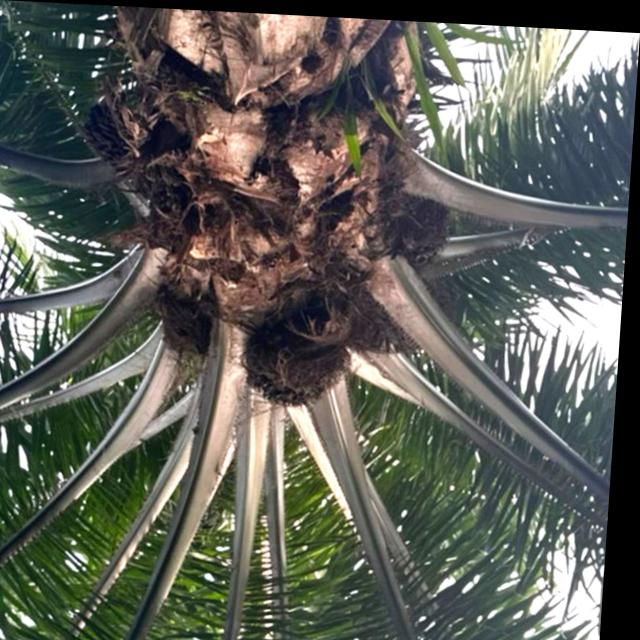unripe: (241, 320, 360, 410), (387, 191, 467, 269)
